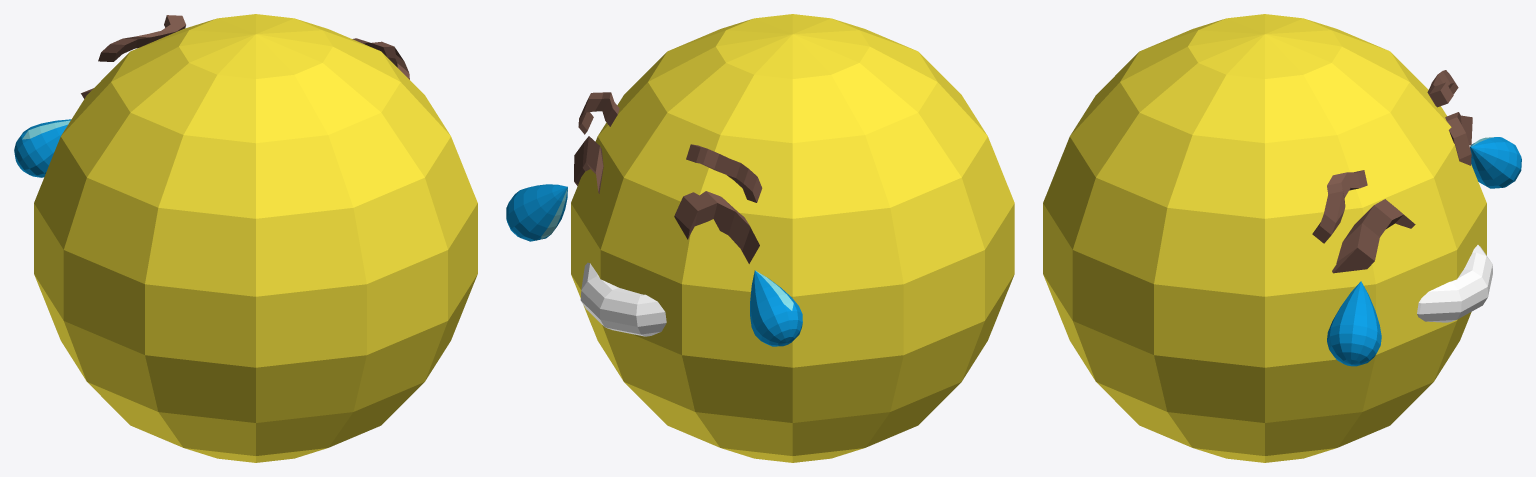
Rendered from cryingFace.obj.
3 views of the same model, side by side, from view 1: azimuth 30°, elevation 25°; view 2: azimuth 150°, elevation 25°; view 3: azimuth 270°, elevation 25° (orthographic).
Parts seen in each view (by area): view 1: group1815170048, group669023669, group1209630906, group223593242; view 2: group1815170048, group1481332715, group669023669, group2110749882, group1662860785, group1209630906, group1169500249, group223593242; view 3: group1815170048, group2110749882, group1481332715, group1169500249, group669023669, group223593242, group1662860785, group1209630906.
Boxes of the visible parts, x1,y1,x2,y2 form: group1815170048: (34, 14, 477, 462); group669023669: (14, 119, 71, 177); group1209630906: (98, 15, 185, 61); group223593242: (352, 38, 409, 79); group1815170048: (571, 14, 1014, 462); group1481332715: (580, 262, 666, 336); group669023669: (750, 270, 802, 346); group2110749882: (506, 184, 567, 241); group1662860785: (674, 191, 759, 263); group1209630906: (686, 144, 762, 202); group1169500249: (574, 136, 603, 193); group223593242: (578, 92, 619, 134); group1815170048: (1043, 14, 1486, 462); group2110749882: (1327, 281, 1381, 366); group1481332715: (1417, 245, 1492, 322); group1169500249: (1332, 199, 1415, 273); group669023669: (1470, 137, 1521, 188); group223593242: (1312, 170, 1367, 243); group1662860785: (1445, 112, 1472, 165); group1209630906: (1427, 70, 1458, 107).
Size of the model in its own units: 0.883 by 0.8 by 0.8502.
